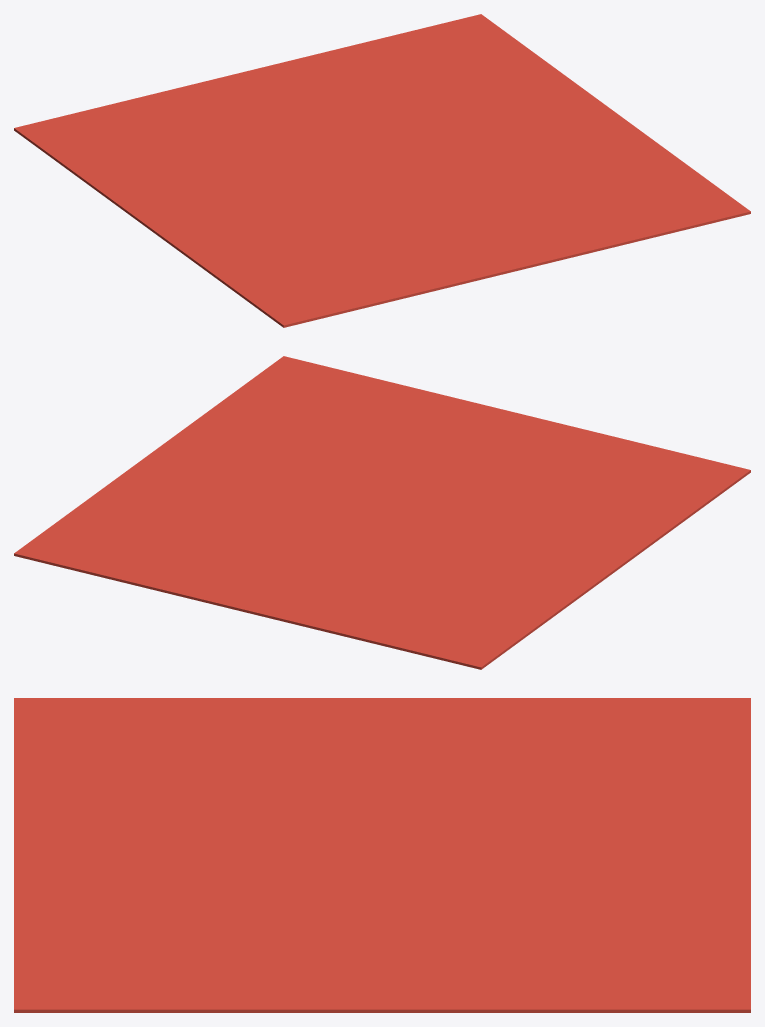
Rendered from SM_Greenscreen_Plane_2x2m.fbx.
The picture shows the model from 3 angles, top to bottom: view 1: azimuth 30°, elevation 25°; view 2: azimuth 150°, elevation 25°; view 3: azimuth 270°, elevation 25°; orthographic projection. The views are drawn at different scales.
Parts seen in each view (by area): view 1: SM_Greenscreen_Plane_2x2m; view 2: SM_Greenscreen_Plane_2x2m; view 3: SM_Greenscreen_Plane_2x2m.
Part boxes in pixels (bbox=[...]): SM_Greenscreen_Plane_2x2m: bbox=[14, 14, 750, 327]; SM_Greenscreen_Plane_2x2m: bbox=[14, 356, 750, 669]; SM_Greenscreen_Plane_2x2m: bbox=[14, 698, 750, 1012].
Bounding box in the file's own units: 200 × 200 × 1.
